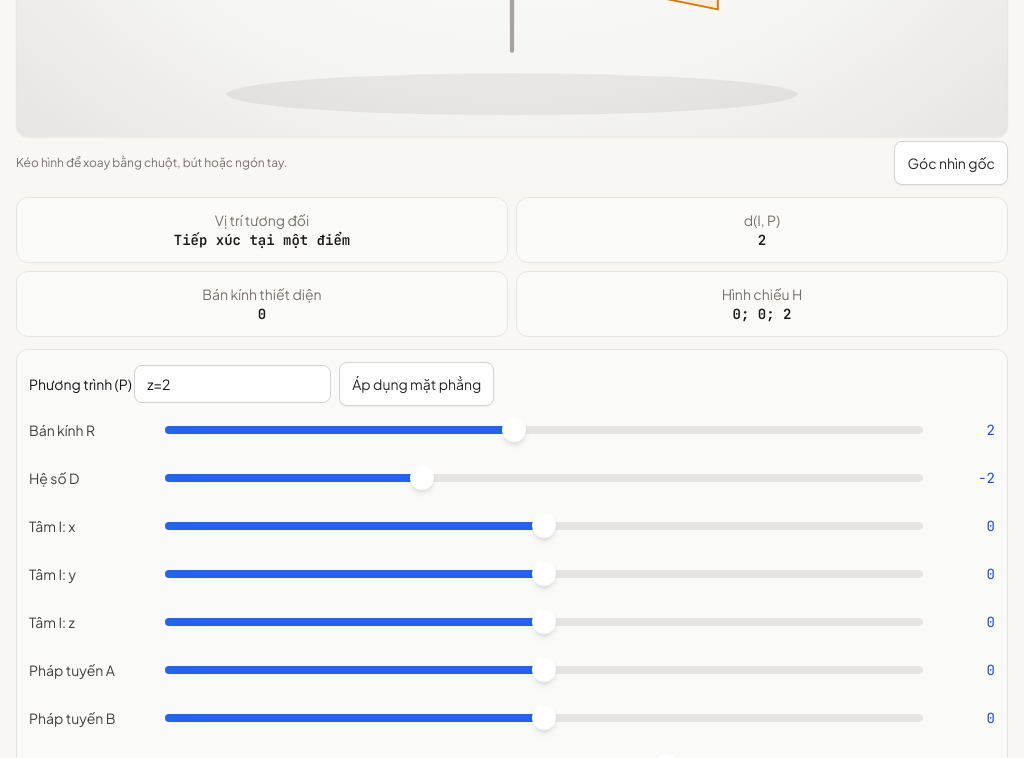
Test: Điều khiển và trạng thái biên › Oxyz nhận phương trình từ đầu vào và bác phi tuyến mà không crash
(page scrolled)
Step 1. Replace the text in the field named "Phương trình mặt phẳng" with "x*y+z=0" → (233, 384), box [134,365,331,403]
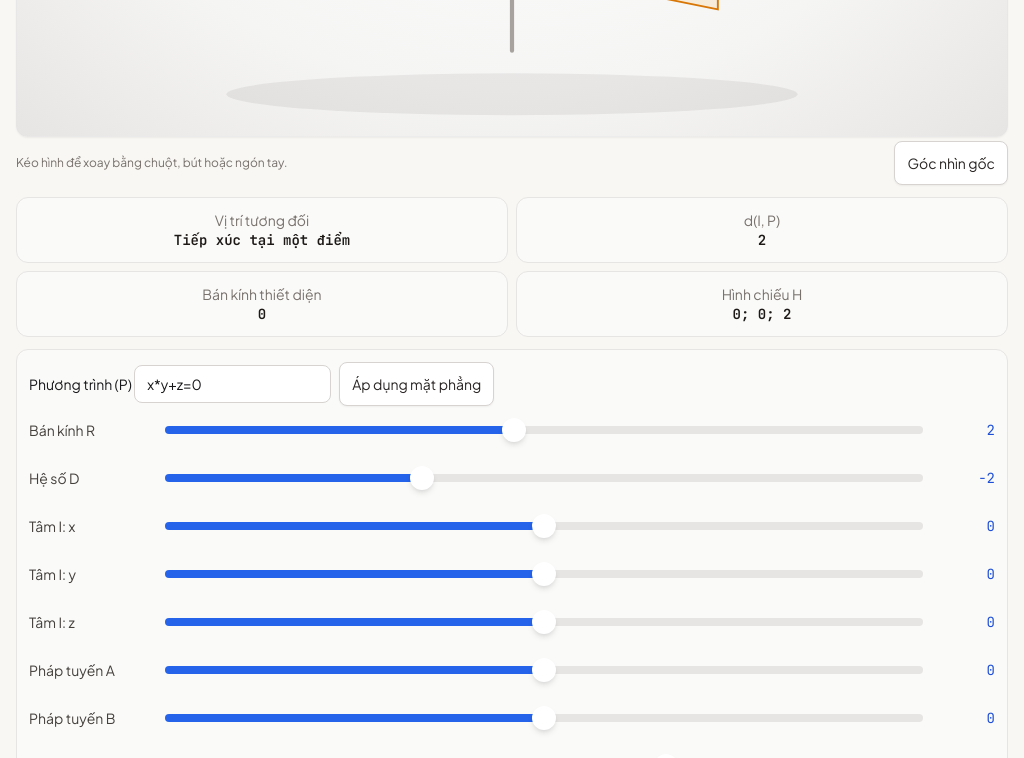
Step 2. Click the button "Áp dụng mặt phẳng" → click(417, 384), box [339,362,494,406]
(page scrolled)
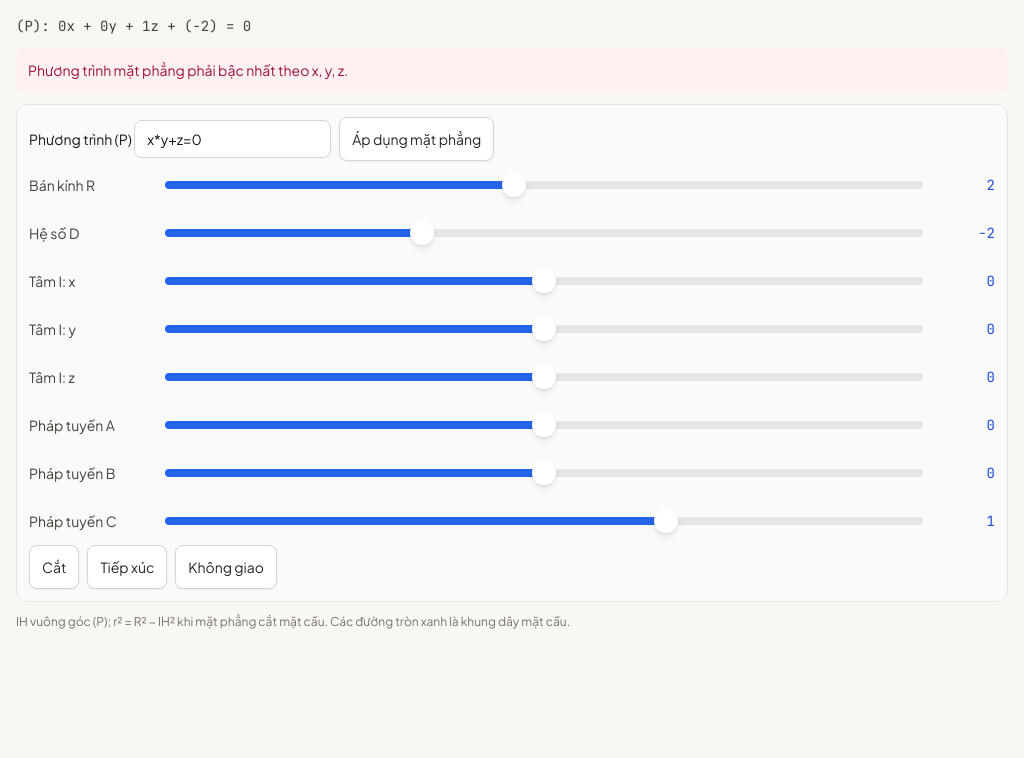
Check: the message shows "bậc nhất", box [28,61,348,79]
